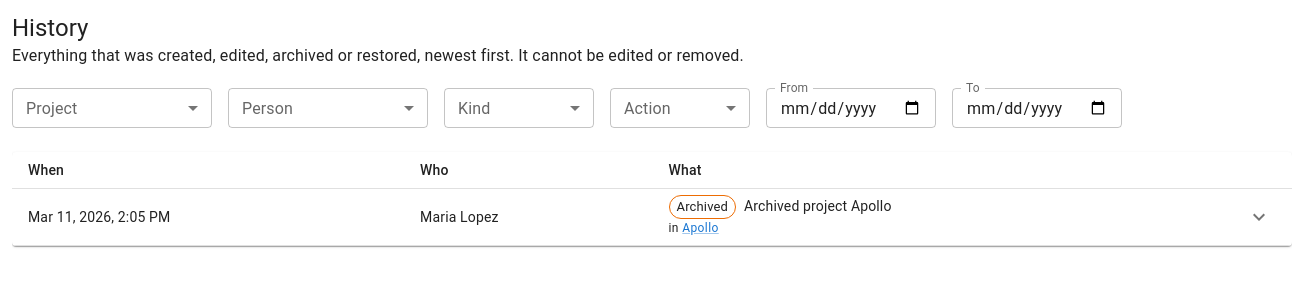
Test: HistoryPage › has a note for an entry whose fields did not change
What coordinates should you click on to do the following:
click the button named "Show details"
I would click on:
 (1259, 217)
Its box is [1242,200,1276,234].
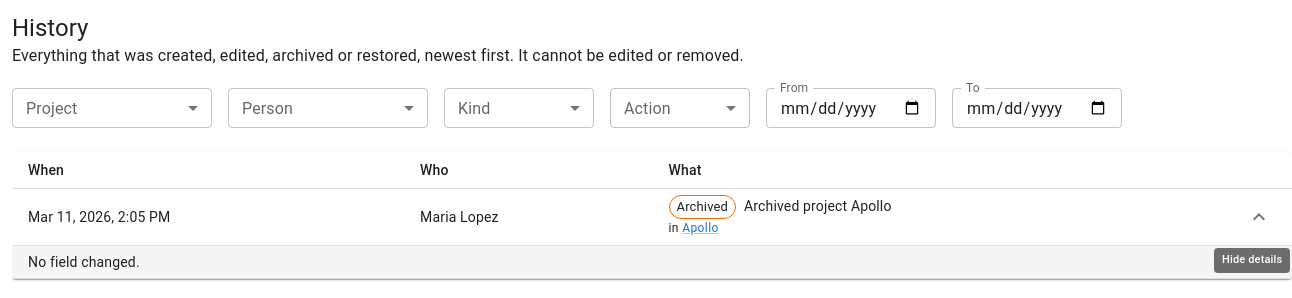
Result: the text "No field changed." is shown at [28,254,140,270]
